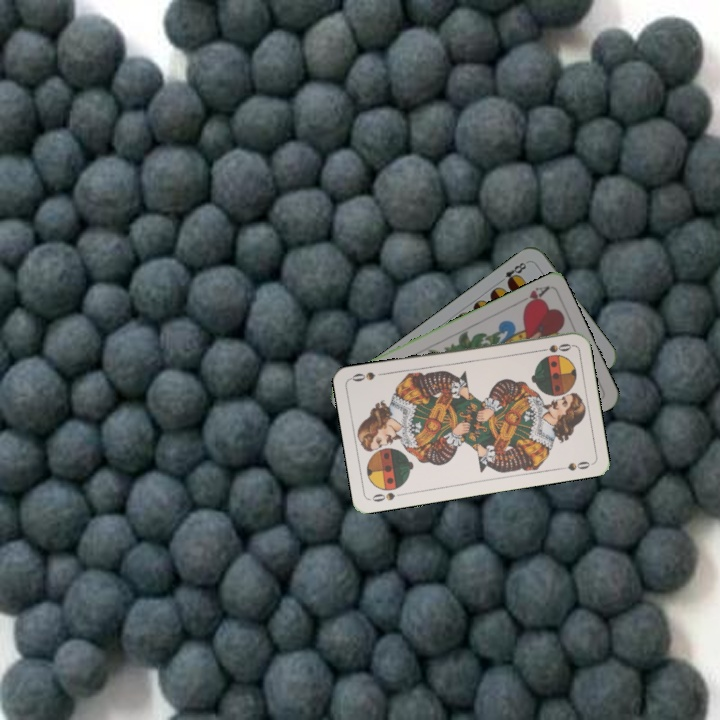E8: (495, 257, 531, 287)
HA: (513, 282, 551, 310)
SO: (534, 339, 574, 355), (368, 488, 407, 504)
